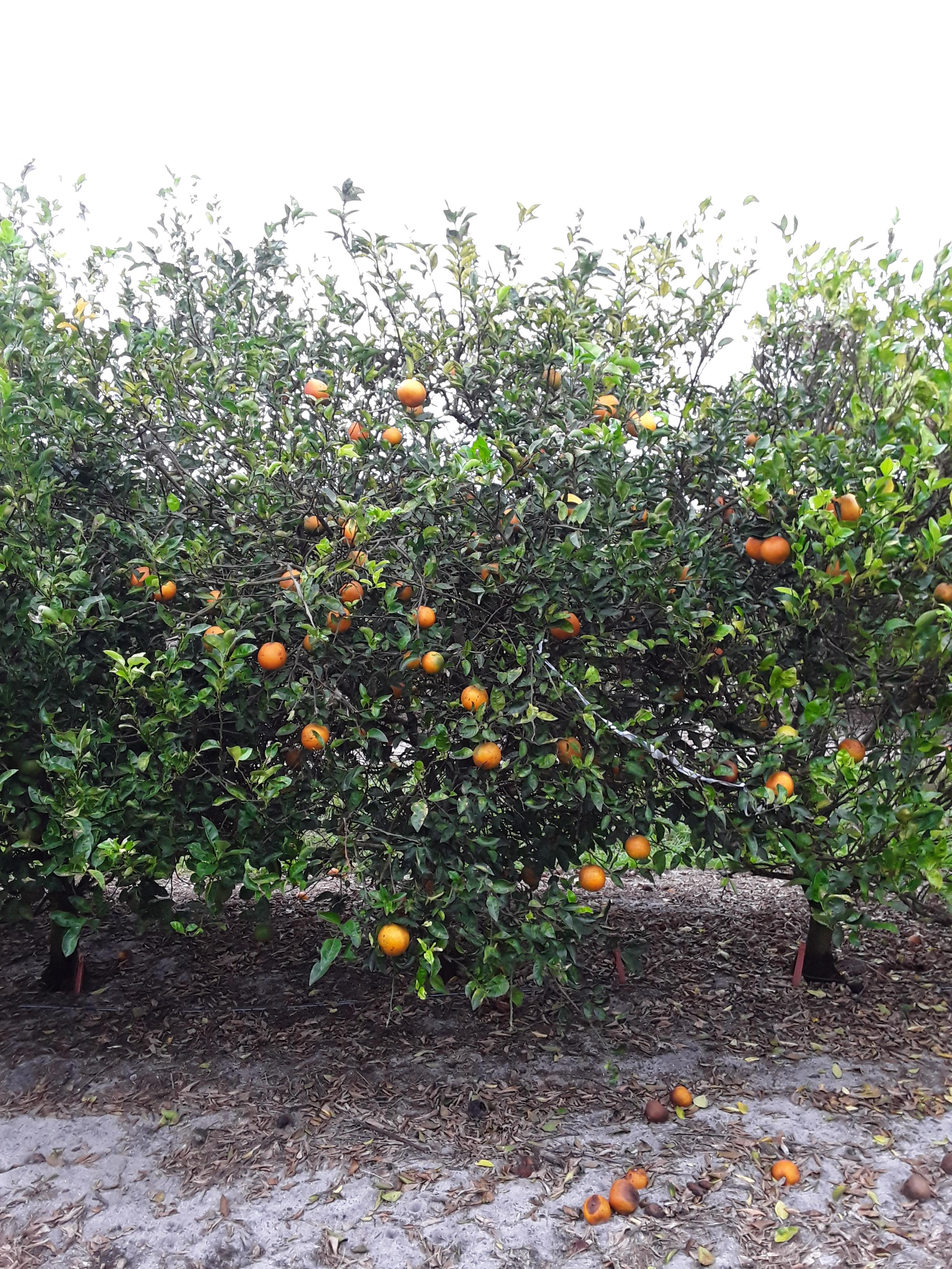fruit_on_ground: (823, 492, 866, 524), (376, 921, 413, 958), (547, 607, 582, 639), (460, 683, 492, 715), (764, 769, 796, 801), (627, 407, 658, 440), (759, 535, 792, 566), (471, 739, 504, 770), (825, 557, 859, 587), (201, 624, 234, 654), (257, 639, 287, 671), (593, 394, 623, 423), (325, 605, 355, 634), (302, 720, 331, 750), (397, 378, 426, 407), (555, 736, 585, 764), (713, 757, 741, 787), (579, 863, 607, 893), (838, 738, 869, 765), (304, 377, 333, 405), (481, 561, 510, 589), (422, 870, 450, 898), (559, 493, 586, 522), (519, 448, 550, 472), (624, 833, 651, 860), (251, 921, 280, 946), (149, 579, 179, 603), (519, 858, 550, 881), (341, 518, 366, 546), (413, 605, 438, 632), (602, 750, 627, 777), (129, 567, 157, 591), (277, 568, 306, 591), (19, 758, 48, 780), (677, 565, 703, 589), (387, 579, 414, 602), (423, 649, 445, 677), (539, 368, 564, 392), (667, 682, 691, 706), (340, 581, 363, 606), (303, 629, 326, 654), (775, 724, 800, 747), (203, 590, 231, 610), (501, 507, 524, 531), (285, 745, 307, 770), (628, 502, 649, 527), (348, 420, 369, 444), (401, 648, 422, 672), (304, 515, 329, 535), (347, 724, 369, 746), (747, 711, 767, 735), (346, 549, 369, 568), (747, 533, 763, 560), (934, 580, 952, 604), (381, 426, 403, 445), (467, 532, 488, 551), (722, 505, 740, 527), (709, 641, 726, 664), (743, 430, 762, 449), (388, 681, 408, 699), (404, 402, 425, 416), (708, 493, 725, 510), (395, 893, 411, 910), (626, 613, 639, 626), (466, 489, 478, 501), (336, 515, 348, 525), (667, 587, 676, 595)
fruit_on_tree: (607, 1177, 641, 1217), (582, 1190, 614, 1228), (901, 1171, 934, 1206), (769, 1157, 800, 1187), (640, 1098, 671, 1125), (625, 1164, 652, 1193), (515, 1152, 543, 1179), (641, 1199, 670, 1223), (670, 1084, 694, 1109), (468, 1097, 492, 1120), (940, 1150, 952, 1178), (275, 1113, 294, 1129), (114, 947, 133, 962), (294, 890, 312, 904), (908, 934, 925, 947), (326, 867, 341, 879)
